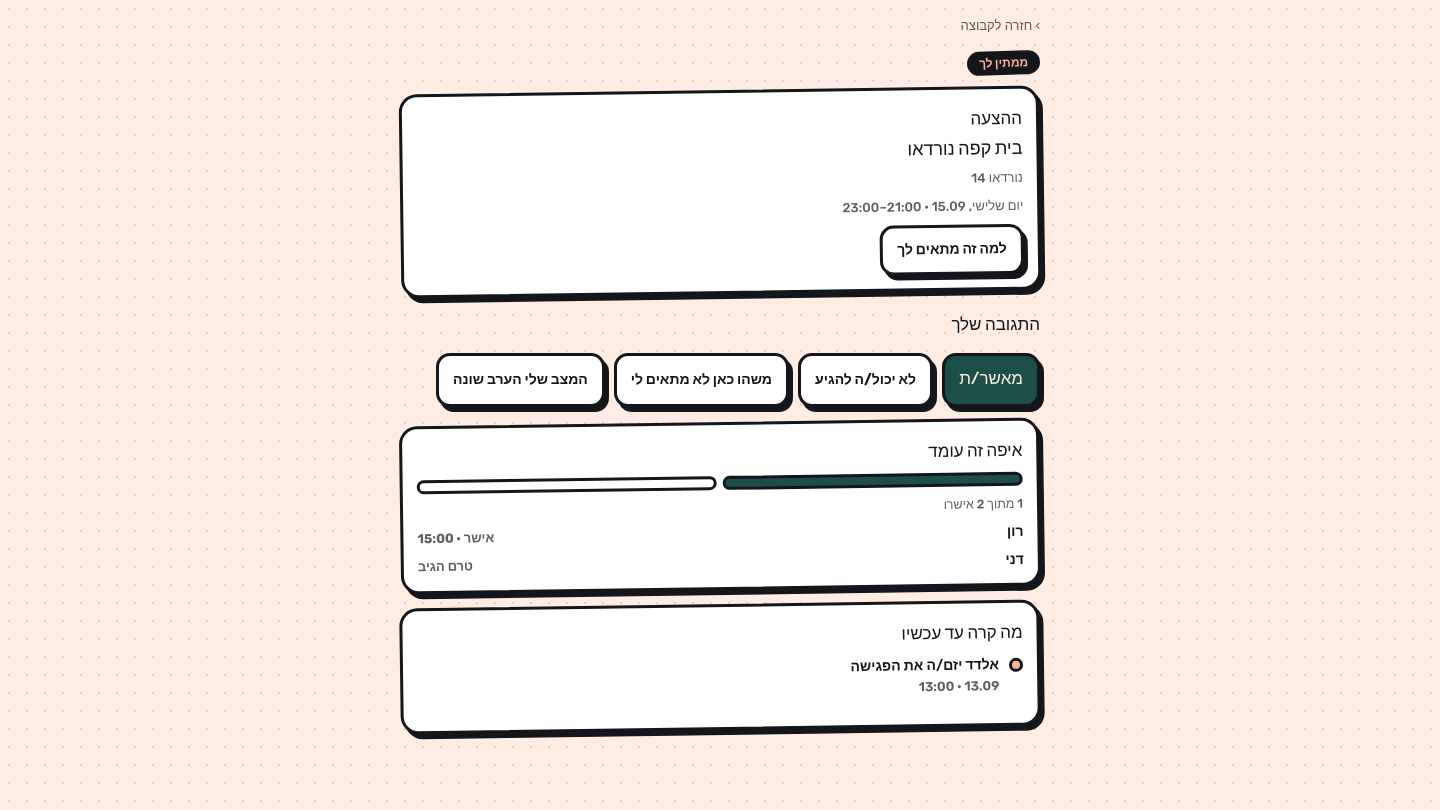
Test: shows the proposal, and reveals the justification only on request
The width and height of the screenshot is (1440, 810).
Expected: the text "בית קפה נורדאו" is shown, [907, 136, 1023, 163]
Expected: the text "מקום שקט, קרוב לעבודה שלך." is not shown
Click the button "למה זה מתאים לך" at (952, 250), box [880, 224, 1024, 275]
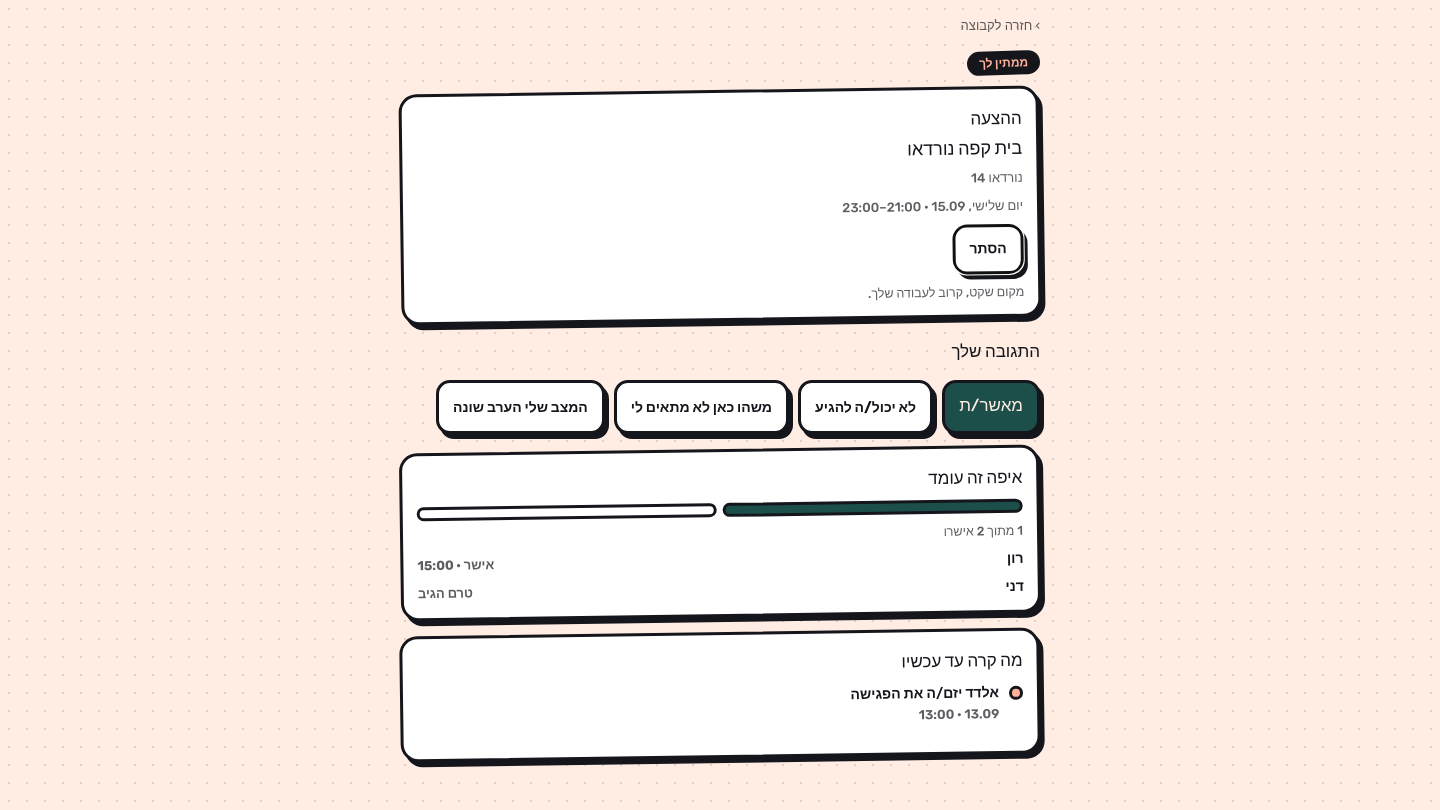
Now the text "מקום שקט, קרוב לעבודה שלך." is shown, box [868, 283, 1024, 301]
